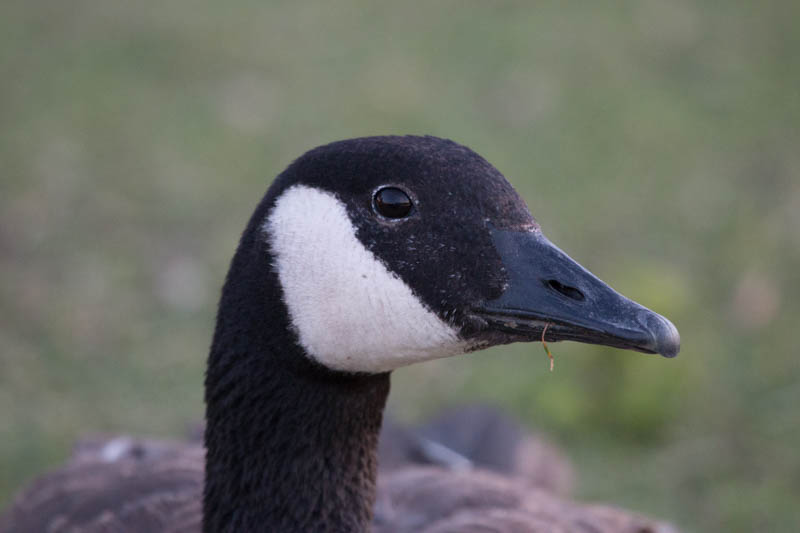goose-head: (205, 133, 683, 374)
